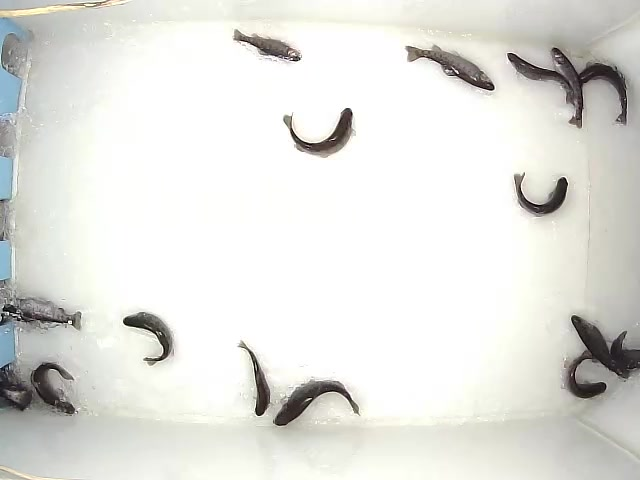fish: (403, 43, 496, 92), (273, 375, 362, 426), (506, 51, 577, 107), (282, 107, 358, 159), (577, 61, 629, 127), (571, 314, 623, 377), (235, 337, 274, 418), (122, 310, 176, 366), (1, 296, 84, 332), (549, 45, 584, 129), (29, 359, 77, 415), (513, 171, 570, 217), (232, 27, 303, 63), (566, 348, 608, 400)
